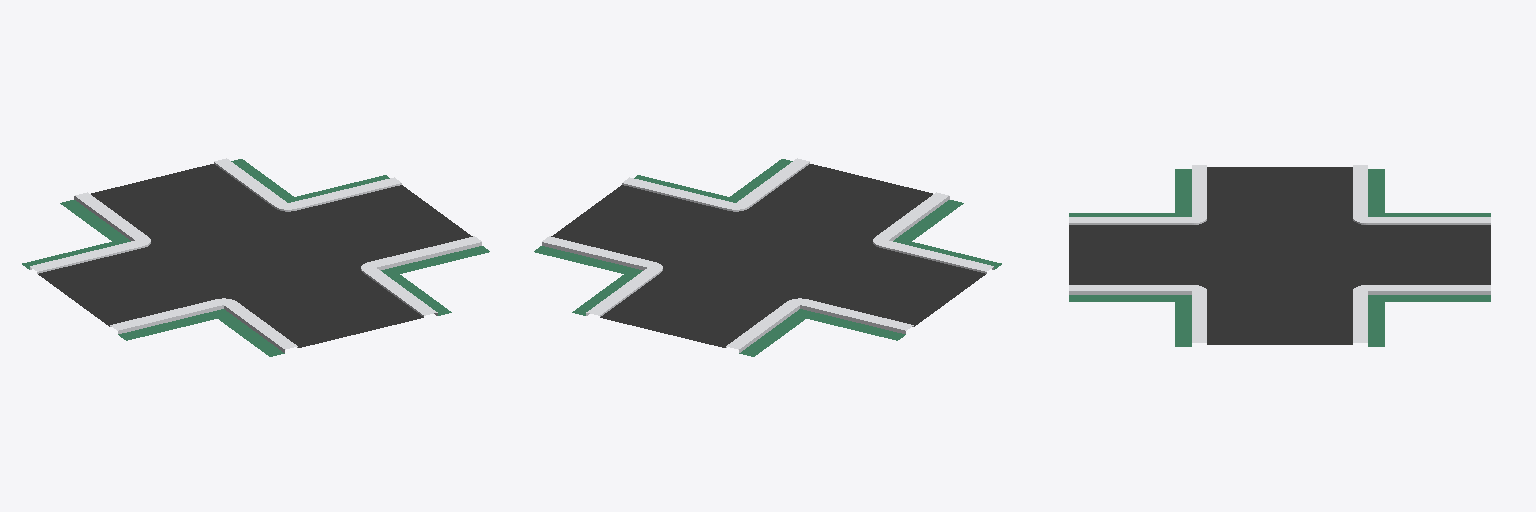
File: roadCrossing.obj
3 renders of one model, left to right at view 1: azimuth 30°, elevation 25°; view 2: azimuth 150°, elevation 25°; view 3: azimuth 270°, elevation 25°, orthographic.
Parts seen in each view (by area): view 1: roadCrossing; view 2: roadCrossing; view 3: roadCrossing.
Boxes of the visible parts, box(x1,y1,x2,y2) form: roadCrossing: box(22, 158, 489, 356); roadCrossing: box(534, 158, 1001, 356); roadCrossing: box(1069, 165, 1490, 346).
Bounding box in the file's own units: 2 × 0.02 × 2.